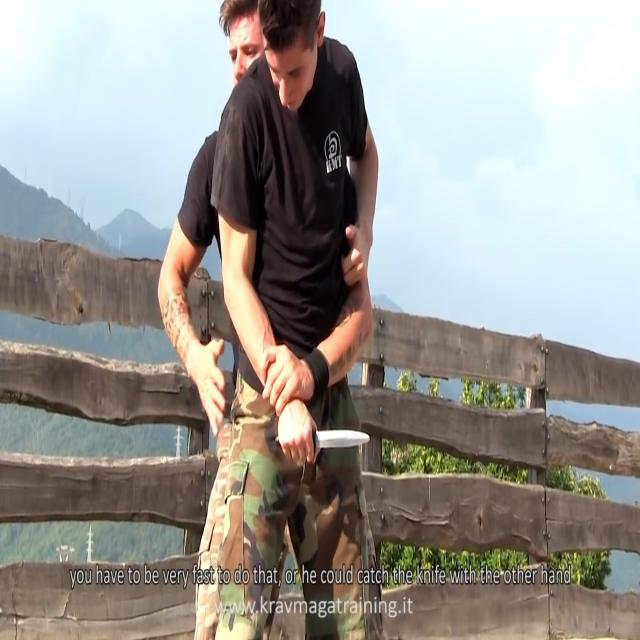knife: (313, 430, 373, 449)
